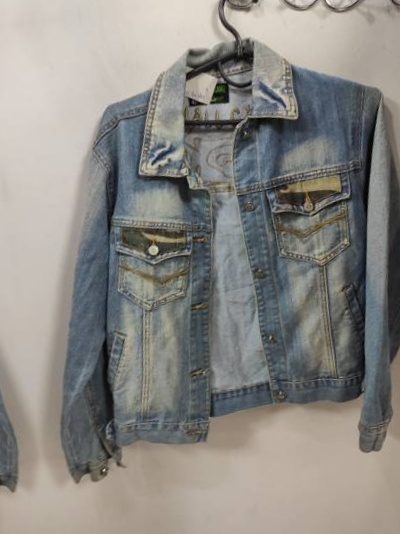Blazer: (3, 57, 400, 499), (0, 113, 37, 534)
